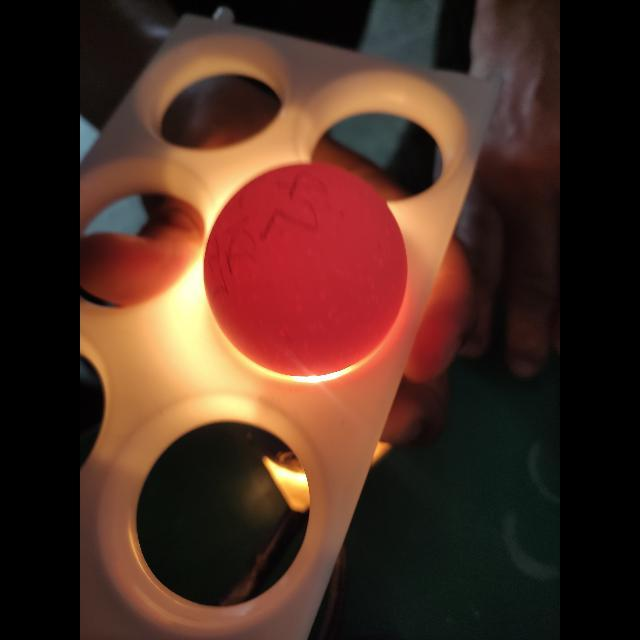A - Good: (197, 154, 416, 383)
